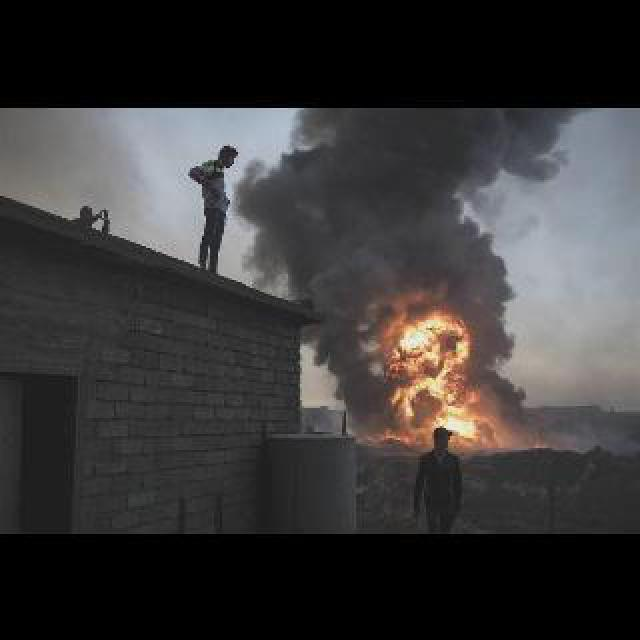Fire: (378, 294, 500, 448), (536, 438, 548, 446)
Smoke: (230, 106, 580, 318)
